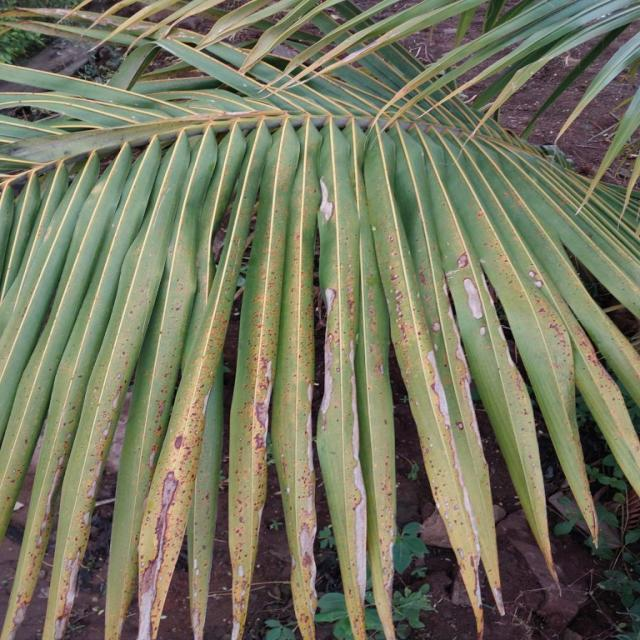gray leaf spot: (126, 260, 531, 640)
